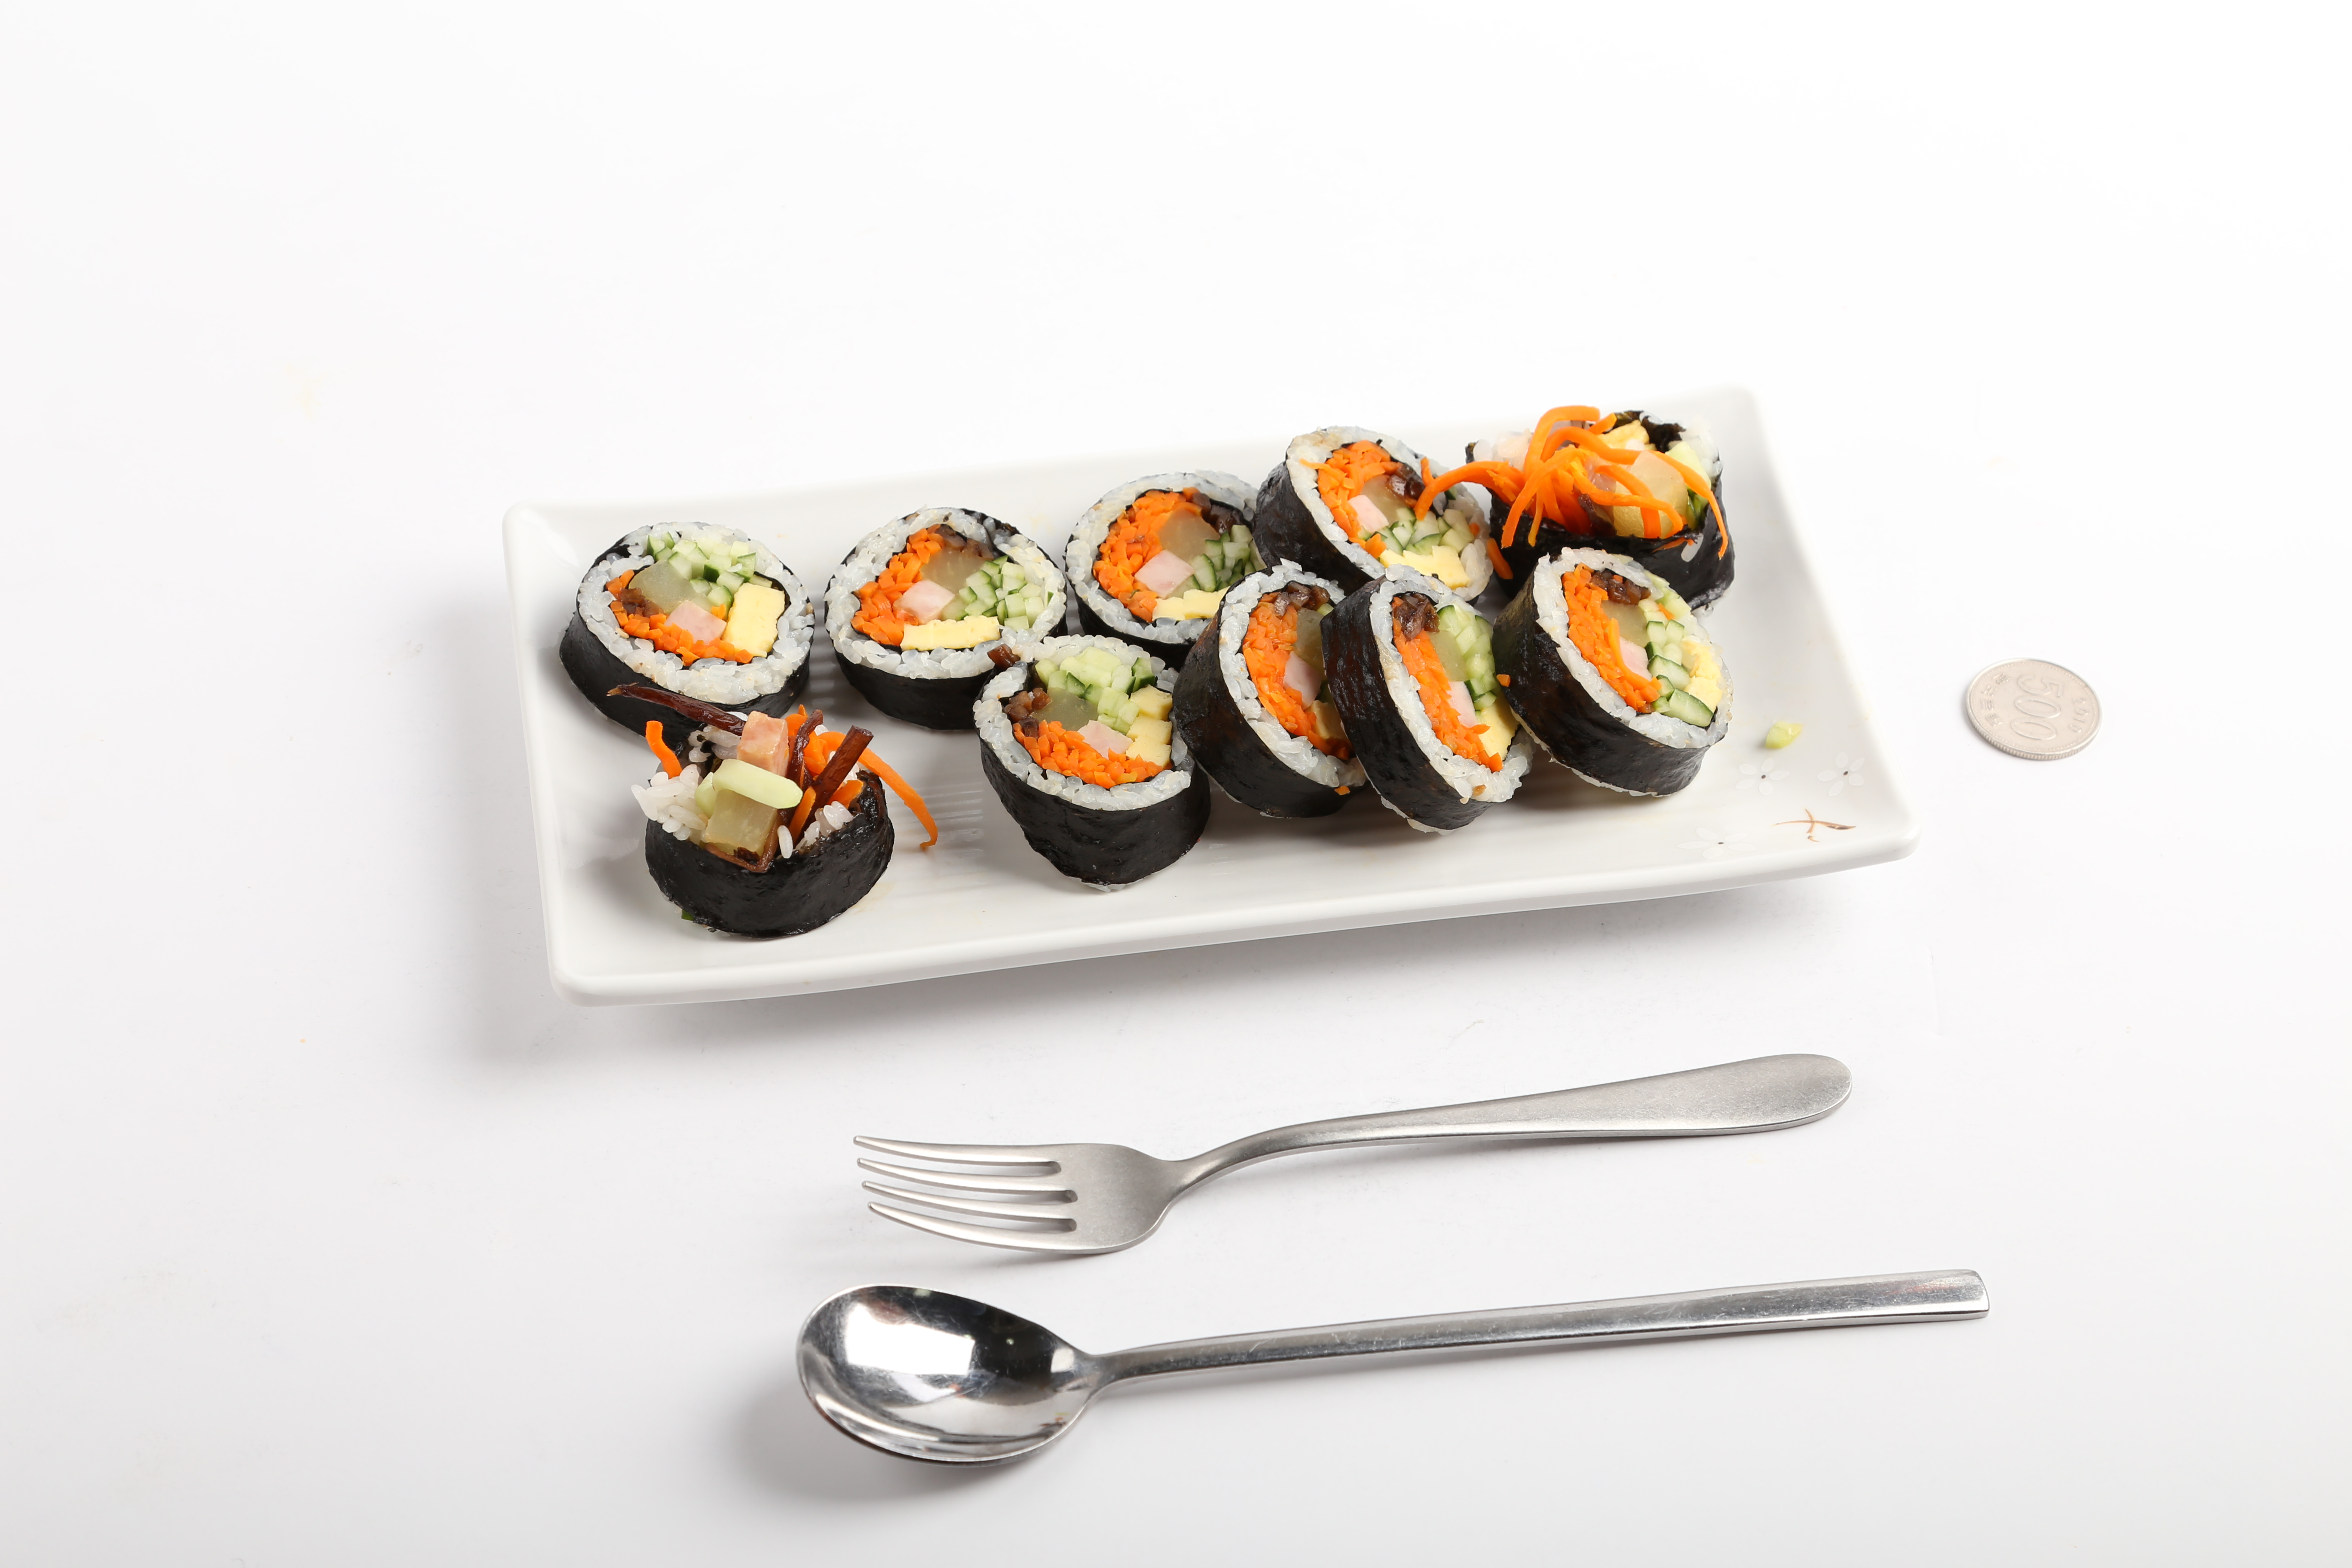dish: (504, 387, 1916, 1018)
ref_coin: (1955, 656, 2105, 766)
ref_fork: (849, 1125, 1276, 1260)
ref_spoon: (784, 1274, 1185, 1468)
김밥: (555, 416, 1736, 938)
